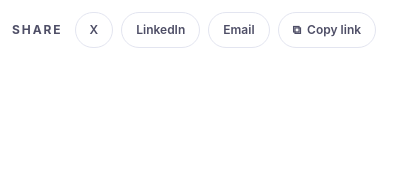
it: ShareButtons › copies the canonical URL and confirms it
Click the button "⧉ Copy link" at (327, 30), box [278,12,376,48]
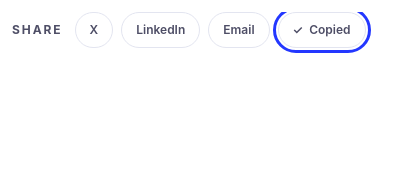
Now the button "✓ Copied" is shown, box [278,12,366,48]
